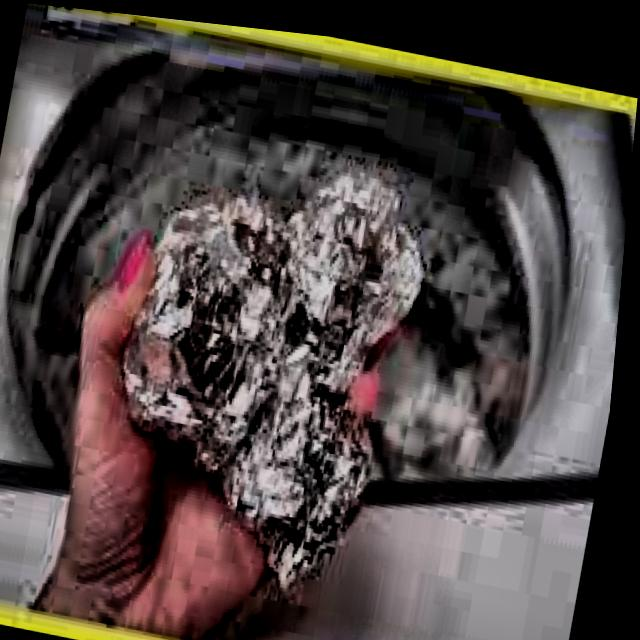Foil: (85, 122, 454, 593)
